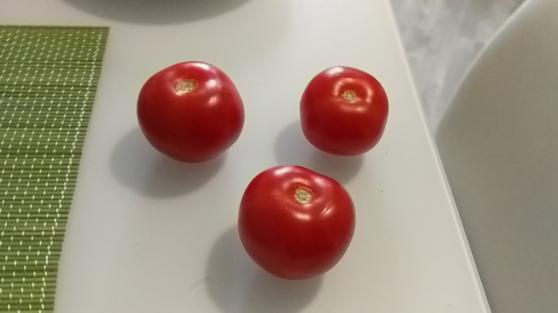tomato: (238, 165, 356, 284), (128, 59, 252, 163), (300, 65, 392, 159)
